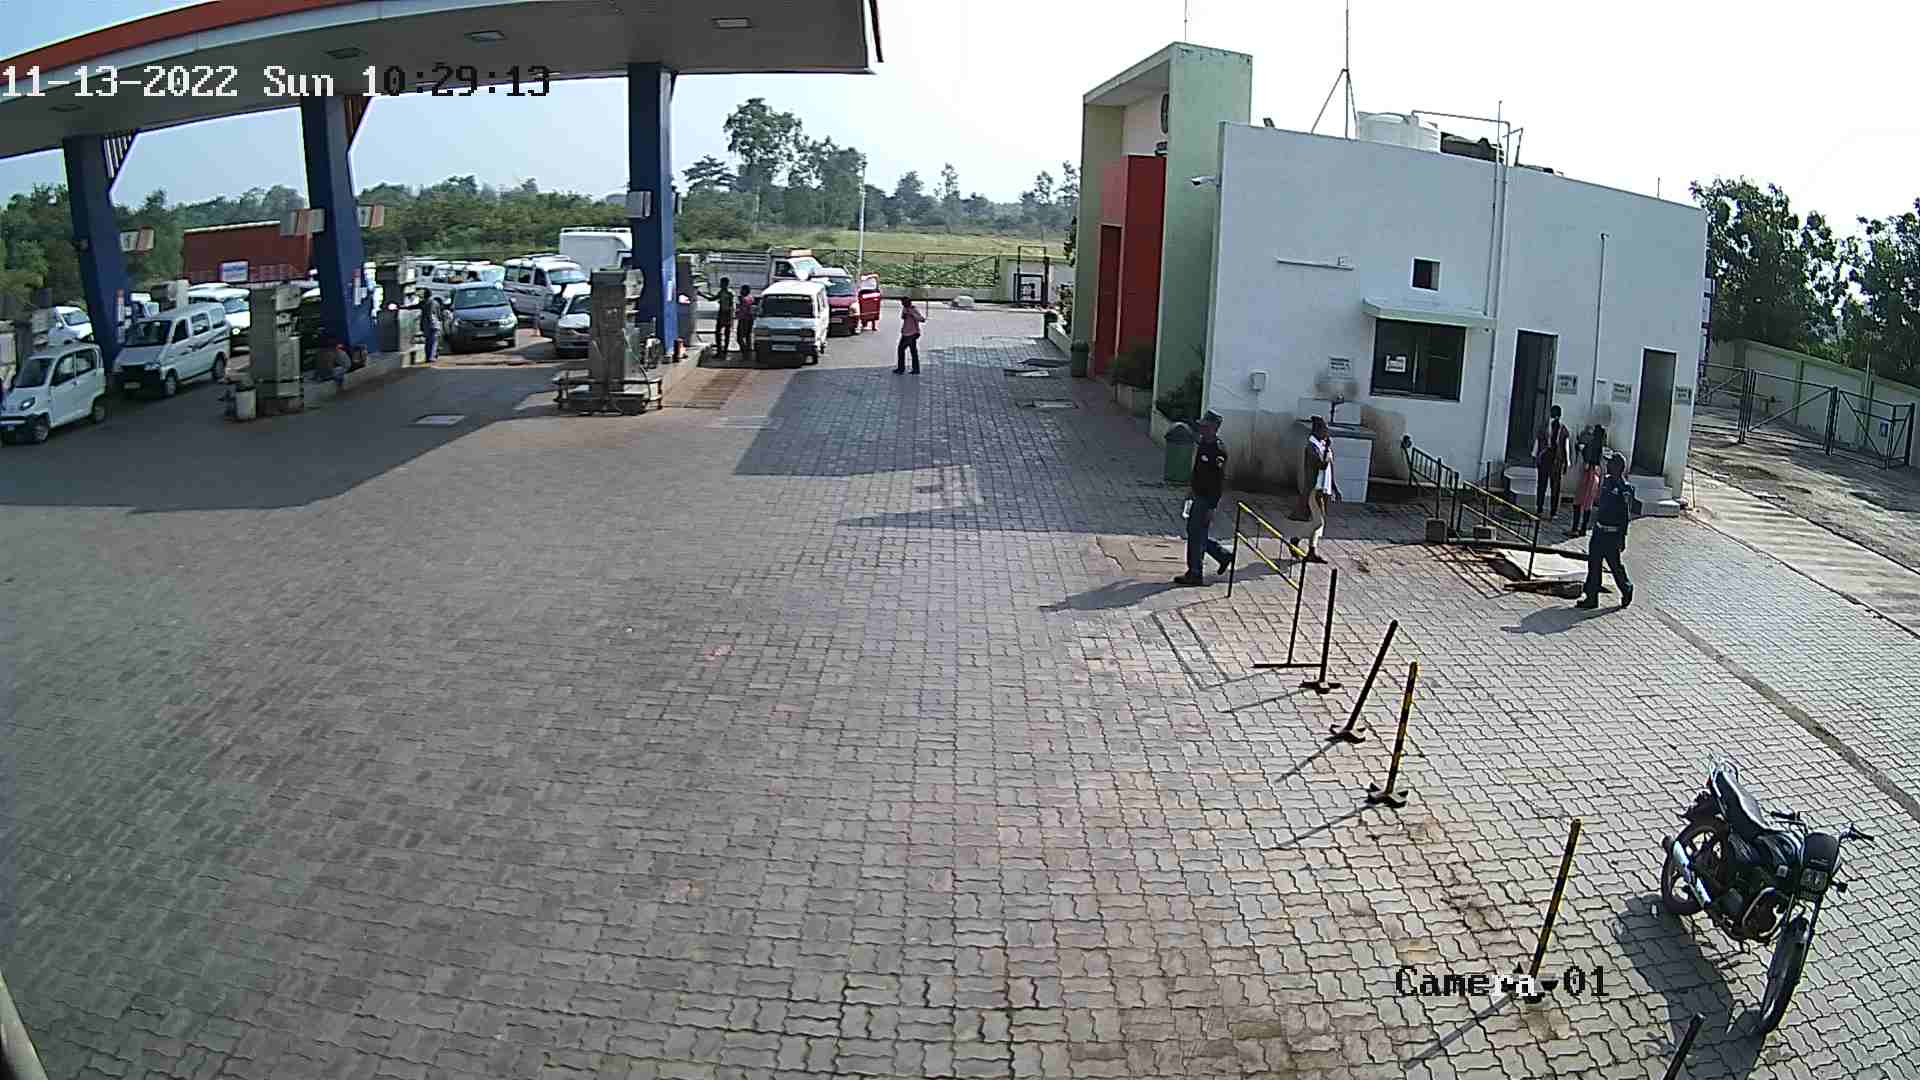Bike: (1629, 729, 1863, 1027)
Car: (0, 332, 117, 448), (108, 301, 235, 400), (695, 236, 822, 320), (737, 269, 833, 372), (430, 276, 524, 356), (796, 260, 886, 339), (498, 245, 584, 326), (411, 252, 502, 320), (554, 218, 641, 284), (533, 278, 603, 360), (187, 280, 258, 353), (284, 280, 338, 373), (29, 301, 95, 356)
HMV: (170, 208, 322, 314)
